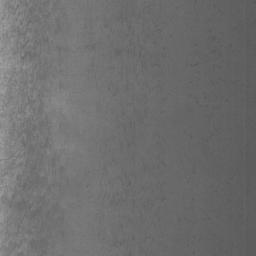Silk spot: (0, 0, 69, 256), (111, 13, 165, 90), (100, 168, 166, 216), (98, 232, 154, 256), (118, 103, 147, 131), (85, 41, 96, 50)
